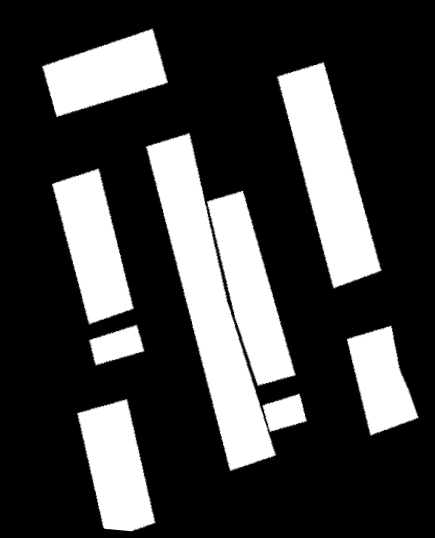parkingspot: (146, 133, 276, 471), (277, 62, 382, 288), (207, 191, 296, 386), (52, 169, 134, 324), (42, 29, 168, 117), (77, 399, 155, 531), (347, 326, 418, 435), (89, 325, 144, 365), (263, 394, 307, 432)
